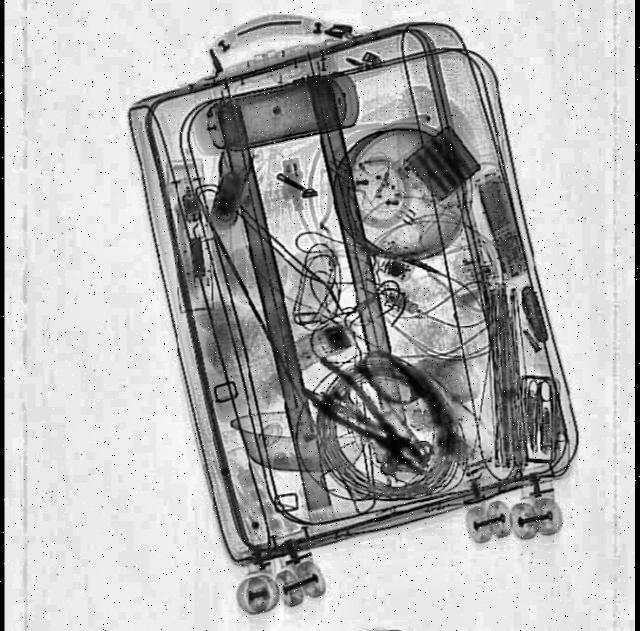Pliers: (298, 350, 443, 489)
